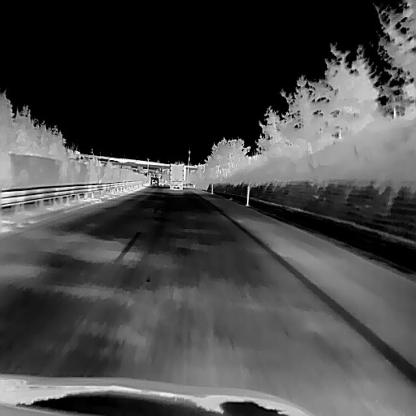truck: (166, 162, 184, 188)
